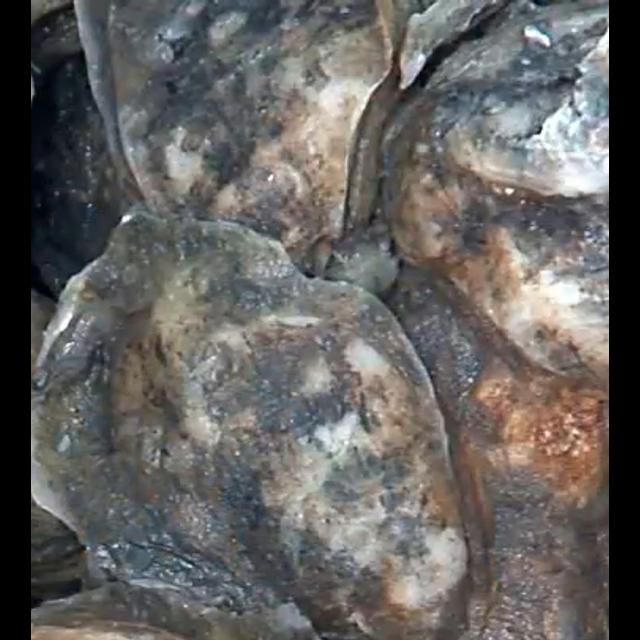Oyster-Closed: (31, 216, 471, 640), (322, 174, 609, 640), (74, 0, 418, 274), (383, 0, 609, 401), (31, 0, 124, 301), (31, 589, 320, 640), (31, 423, 91, 599), (401, 0, 510, 85), (31, 290, 57, 375)
